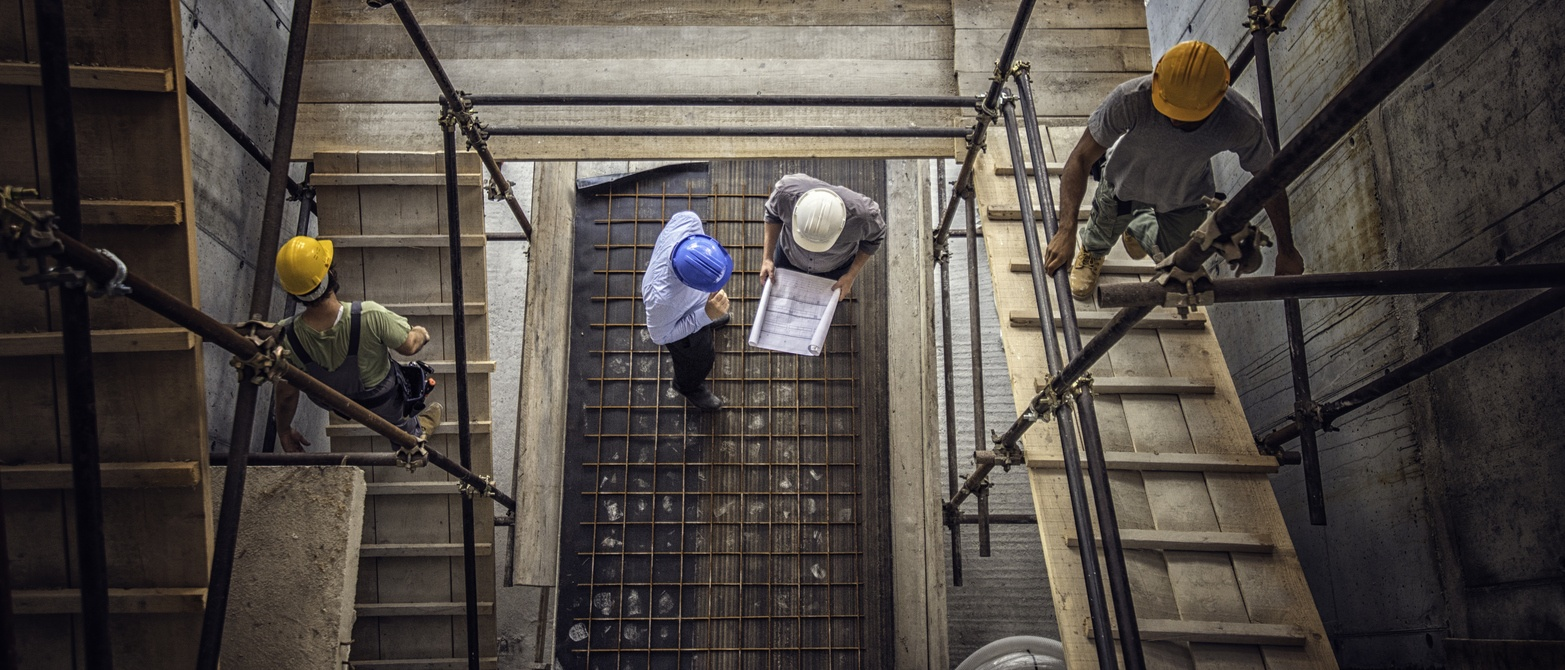blue: (660, 230, 734, 301)
white: (790, 186, 847, 258)
yellow: (1147, 35, 1232, 133), (268, 230, 340, 306)
